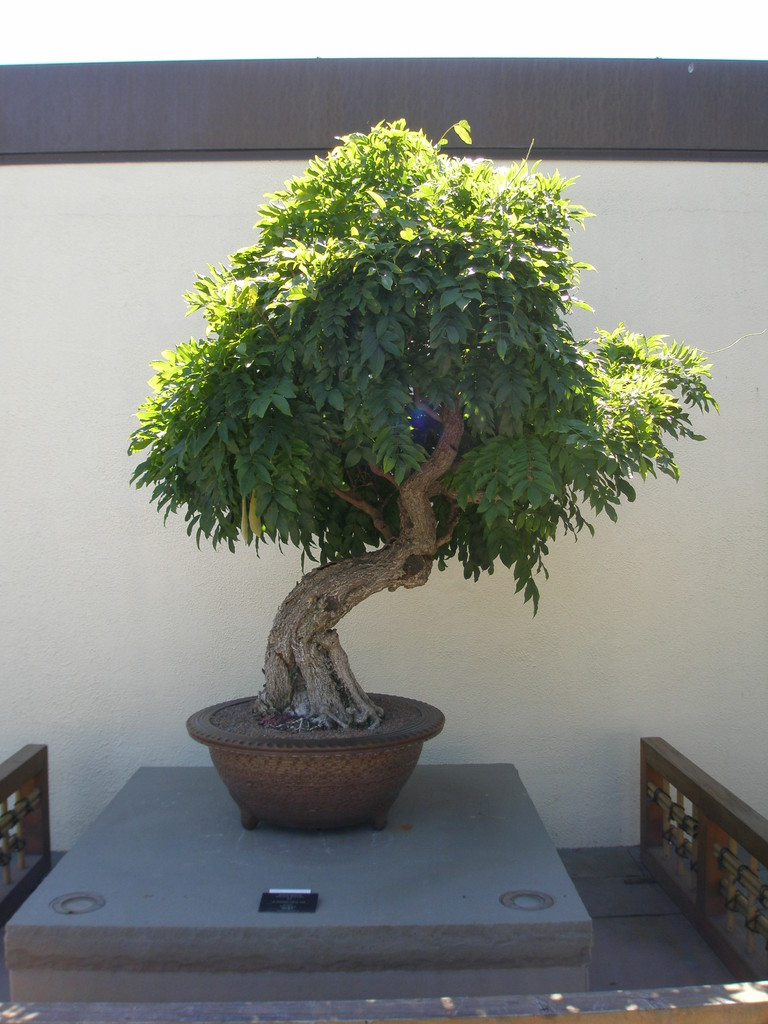Tree: (126, 115, 722, 733)
